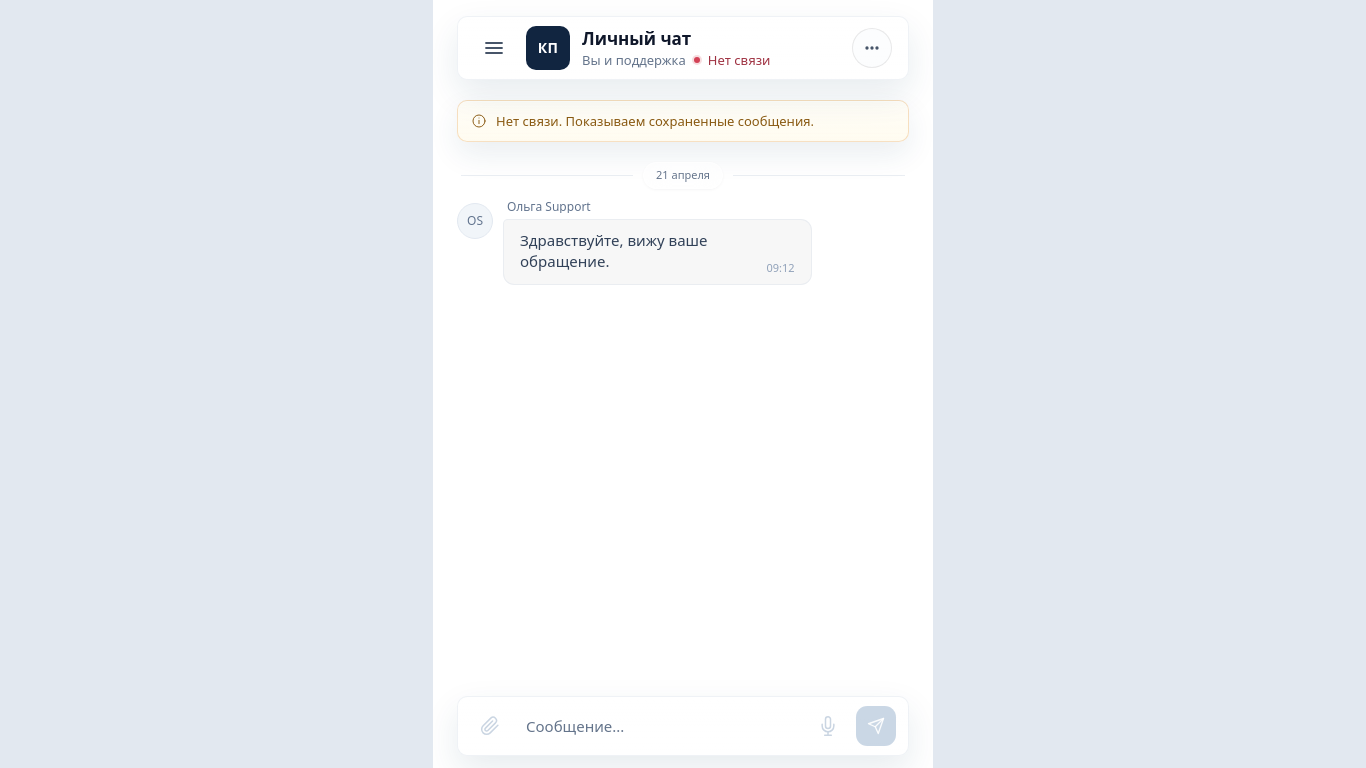
Test: ChatPage optimistic text send › keeps a just queued local bubble when earlier outbox hydration resolves later
The width and height of the screenshot is (1366, 768).
Expected: the text "Здравствуйте, вижу ваше обращение." is shown, [520,230,712,271]
In the text box labelled "Сообщение": (659, 726) [518,706,800,746], type "Пока без сети"
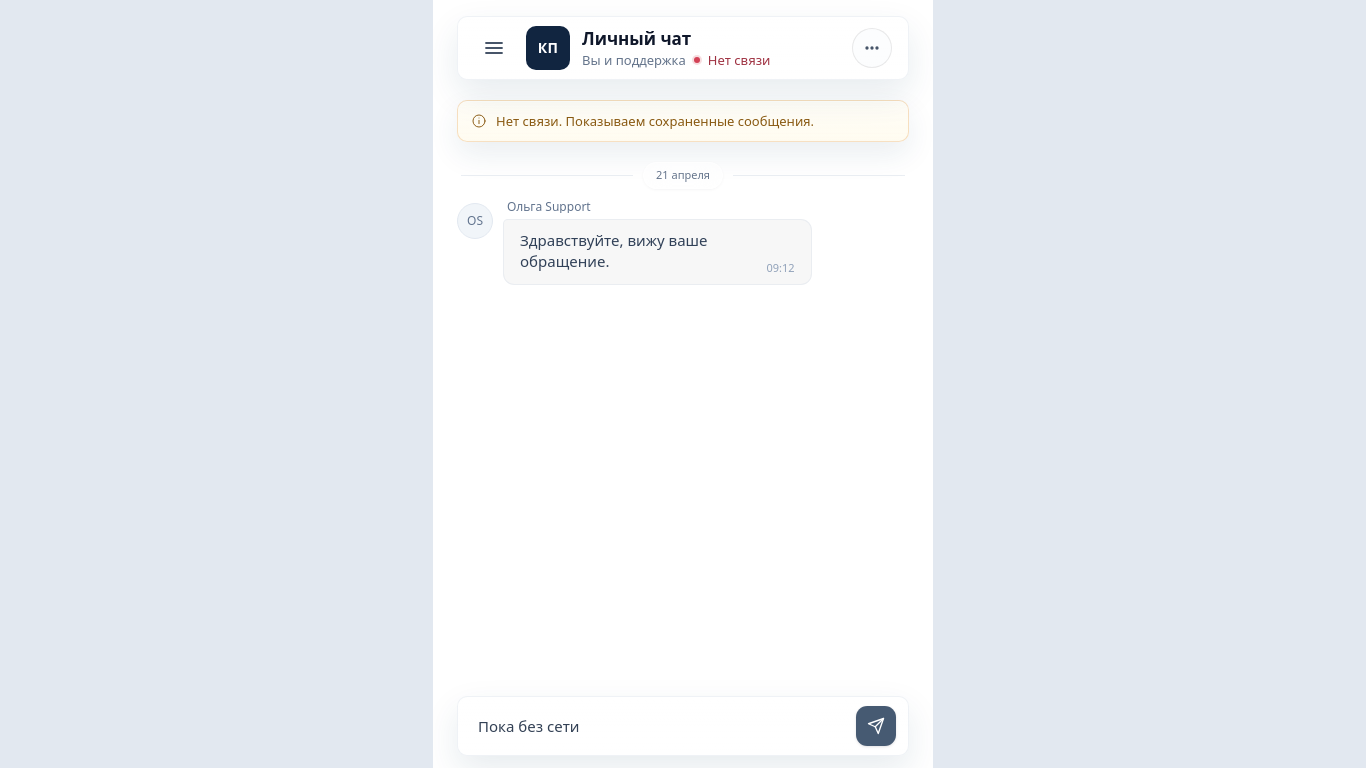
Click the button named "Отправить": (876, 726) [856,706,896,746]
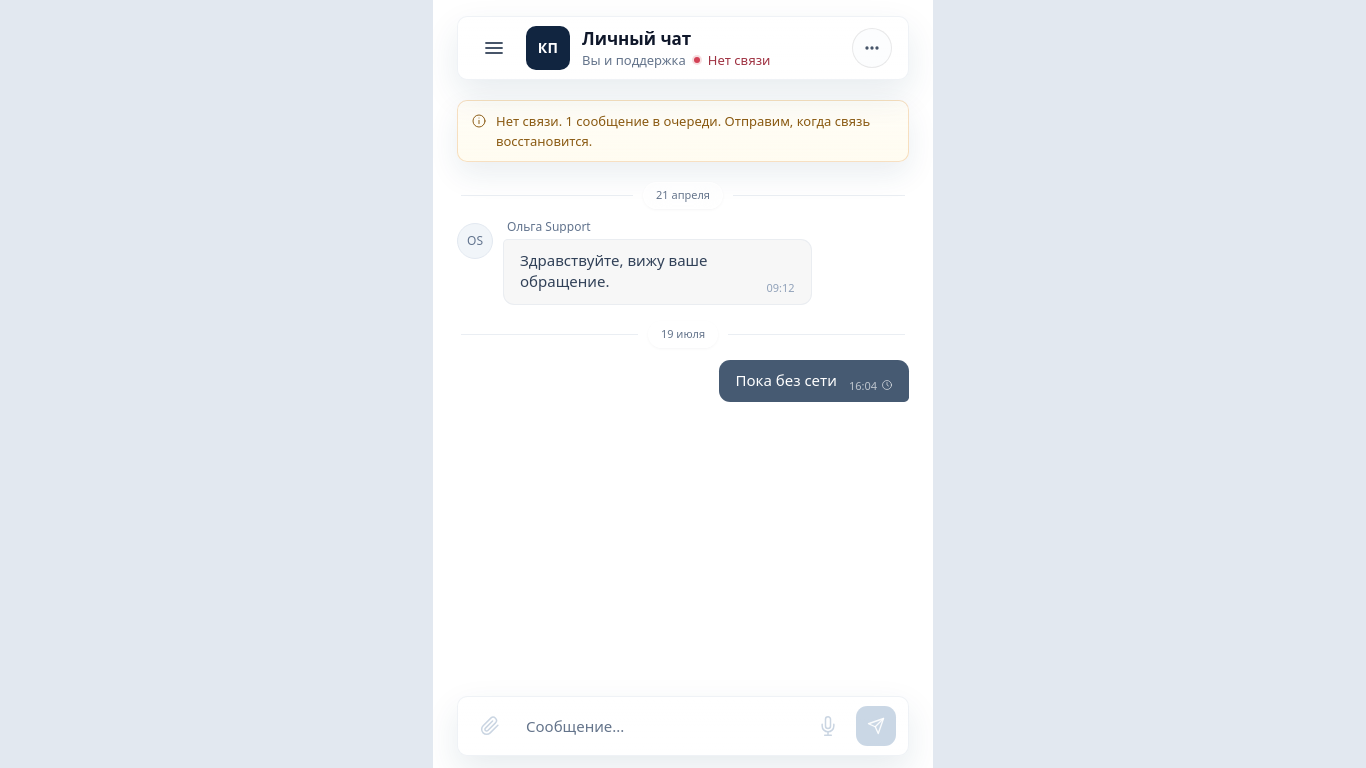
Expected: the text "Пока без сети" is shown, [735,370,837,390]
Expected: the element named "В очереди" is shown, [881,379,893,391]
